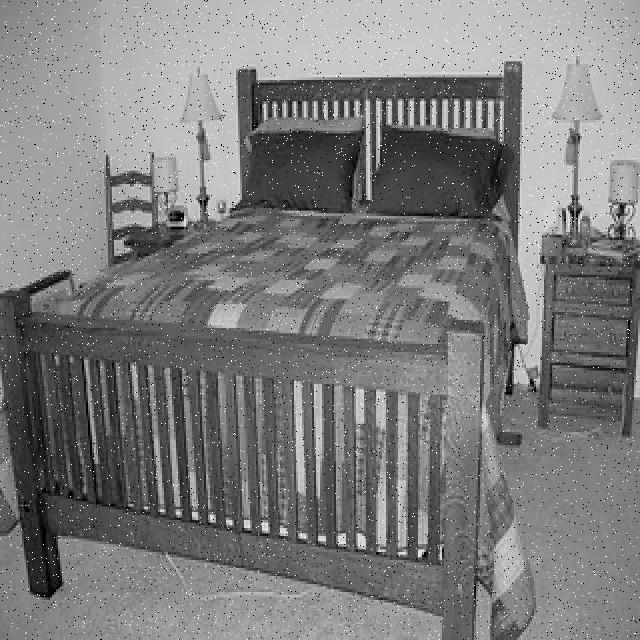bed: (27, 63, 536, 600)
